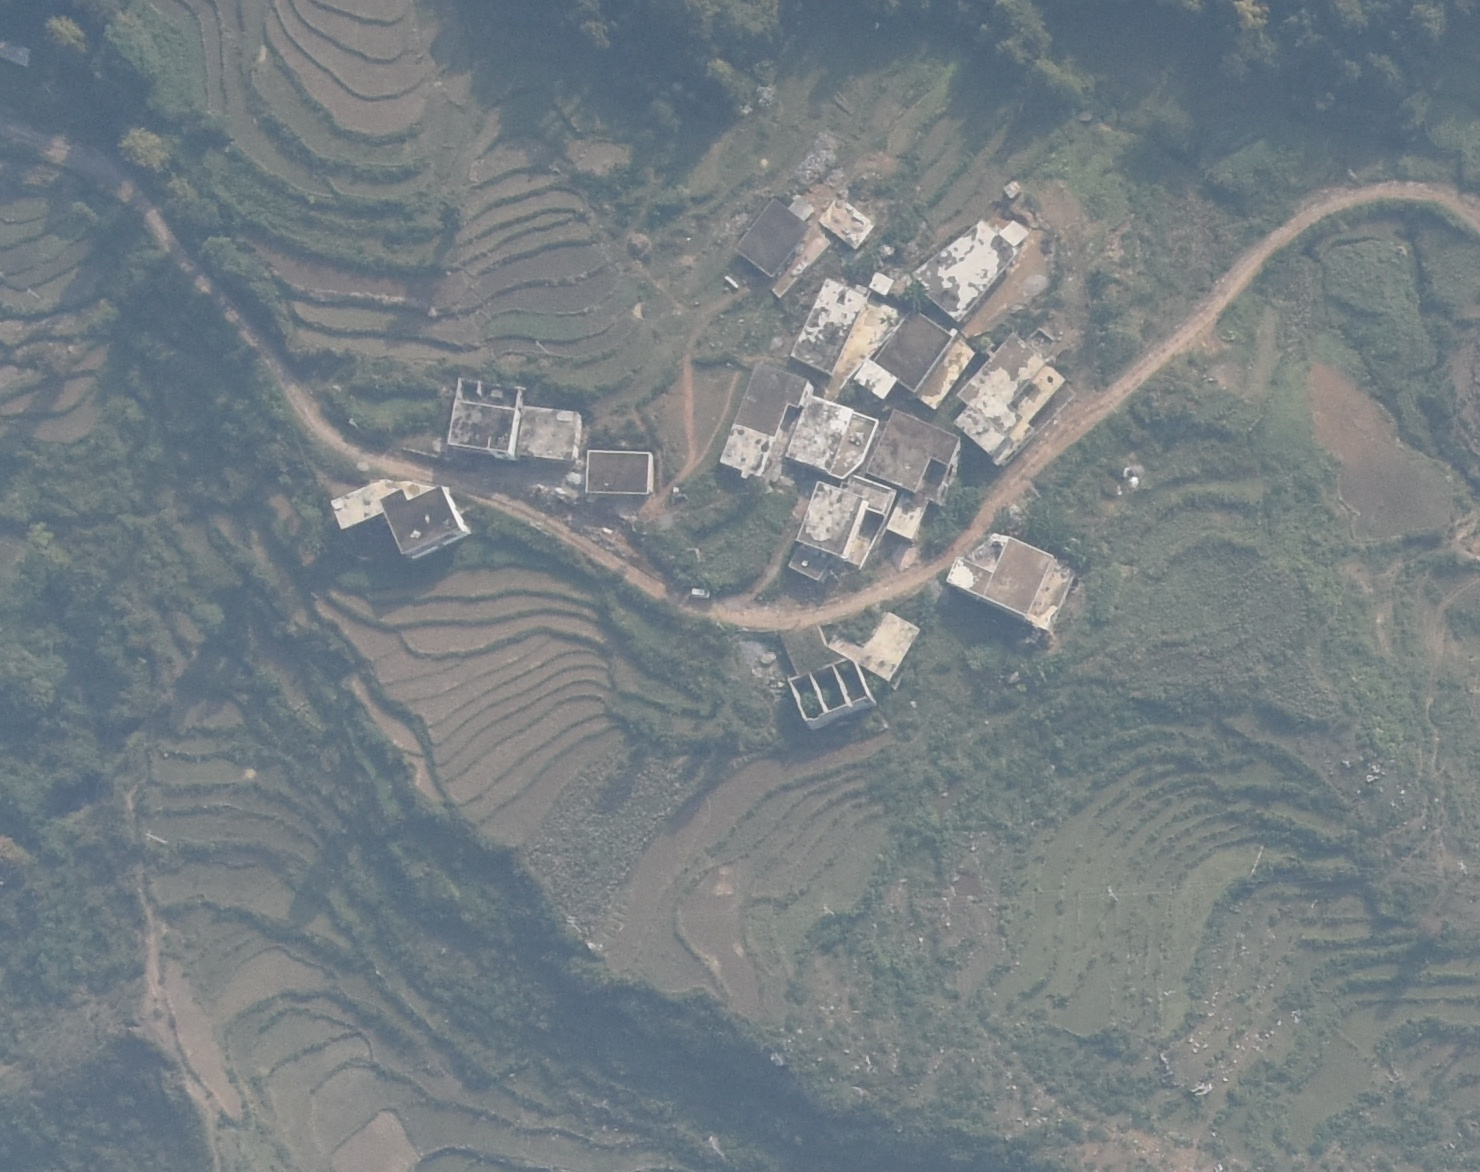building: (951, 331, 1070, 469), (944, 532, 1086, 638), (327, 470, 475, 565), (911, 216, 1043, 321), (783, 471, 899, 587), (866, 411, 966, 540), (775, 619, 883, 733), (795, 272, 903, 377), (716, 364, 808, 478), (784, 390, 885, 472), (869, 310, 955, 399), (826, 611, 925, 688), (731, 202, 811, 281), (449, 376, 523, 458), (518, 401, 582, 463), (585, 448, 654, 500), (820, 197, 874, 248), (1004, 181, 1023, 201)
